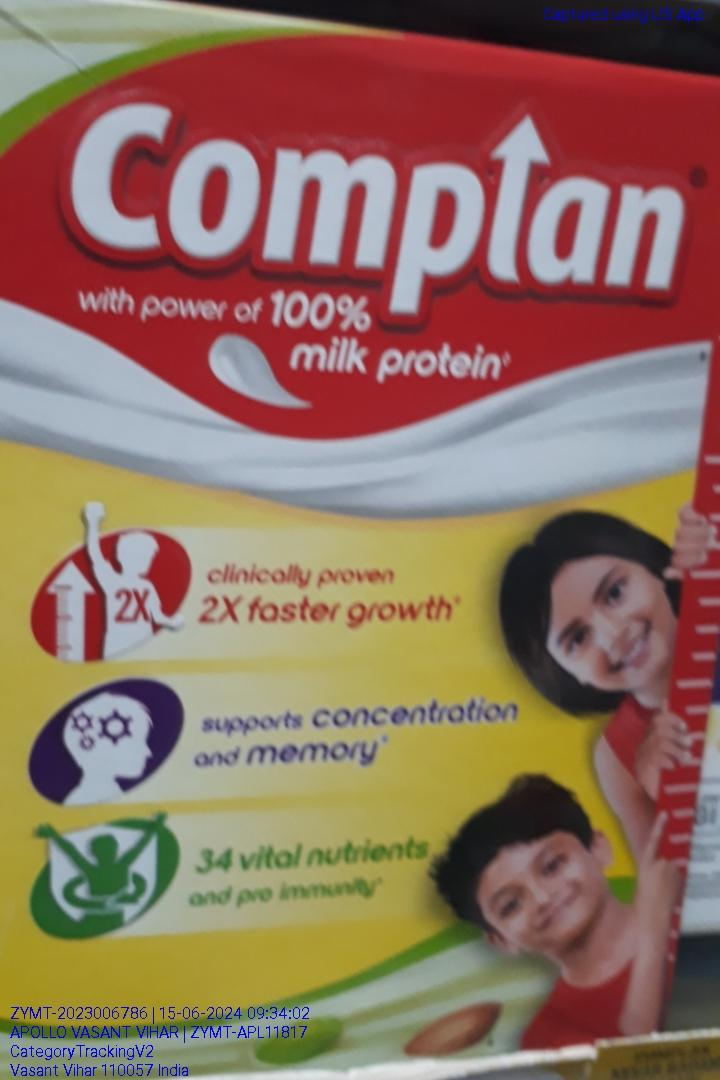COMPLAN_PISTA_BADAM_500_GMS_PACK: (3, 8, 719, 1080)
